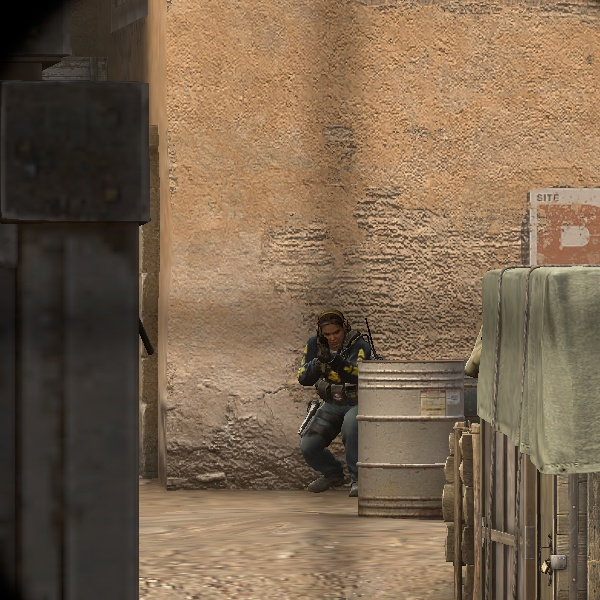ct_body: (278, 307, 385, 503)
ct_head: (309, 308, 352, 350)
